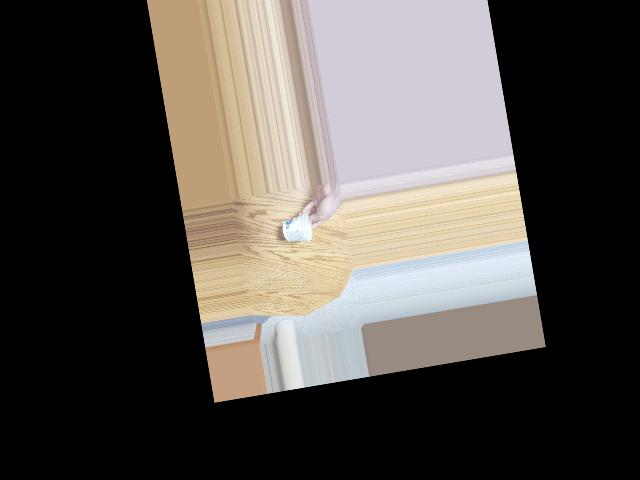cotage: (282, 217, 314, 250)
